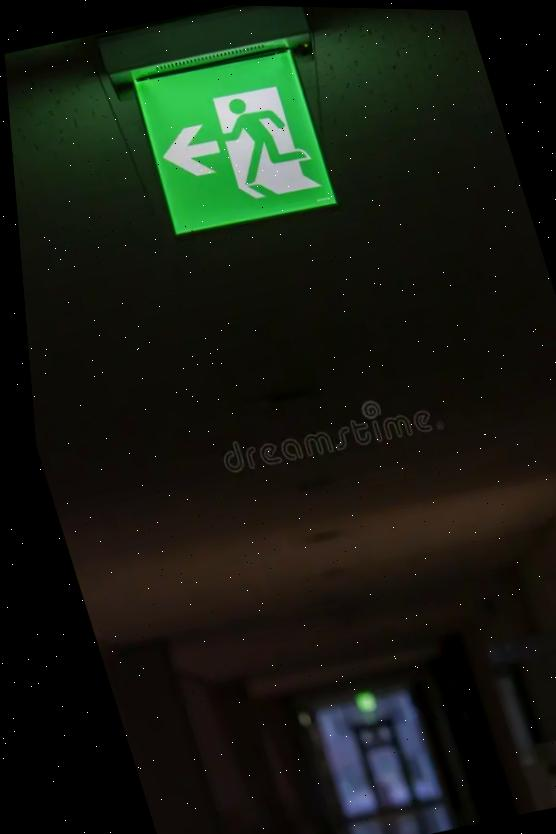emergency_exit: (129, 43, 339, 237)
